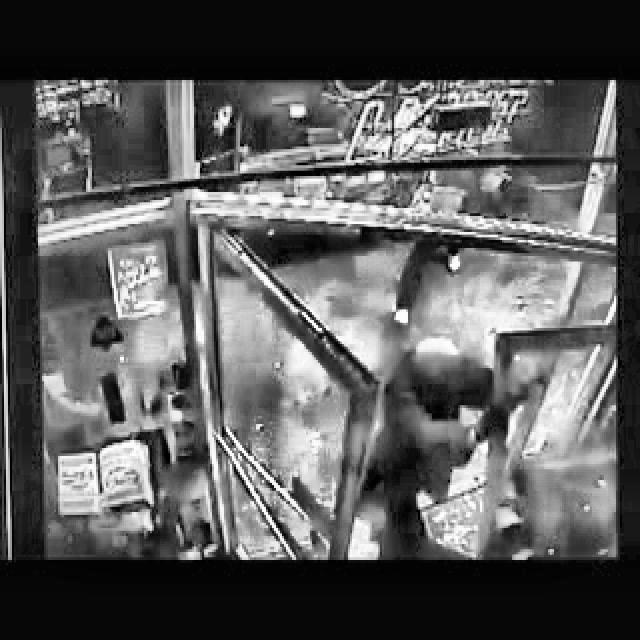burglary: (361, 329, 553, 559), (231, 82, 391, 202)
